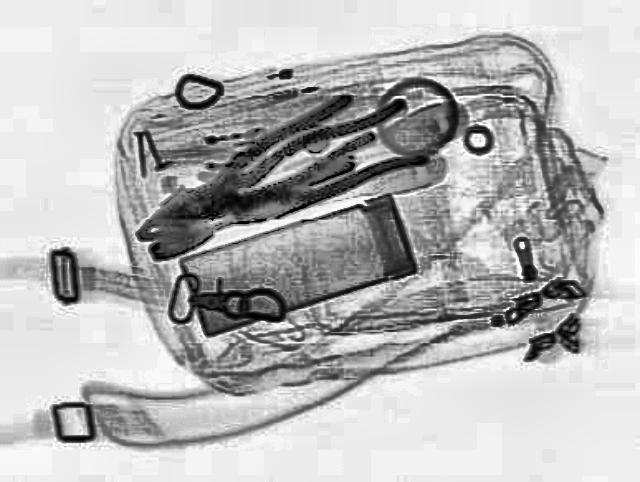Pliers: (137, 94, 446, 252), (110, 90, 392, 256)
